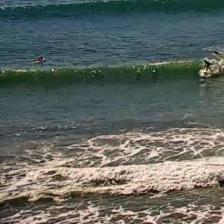surfer: (203, 59, 212, 72), (36, 57, 45, 62), (215, 51, 223, 56)
